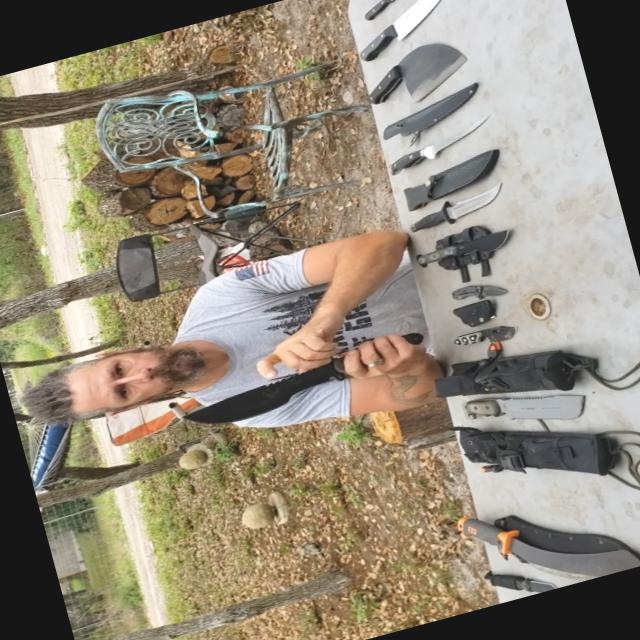knife: (176, 308, 428, 444), (435, 467, 639, 613), (339, 31, 492, 118), (383, 204, 548, 284), (445, 362, 582, 438), (376, 100, 513, 176), (385, 166, 524, 238), (339, 0, 480, 69), (480, 558, 570, 606), (447, 305, 527, 355), (431, 261, 504, 311), (346, 0, 422, 27)
